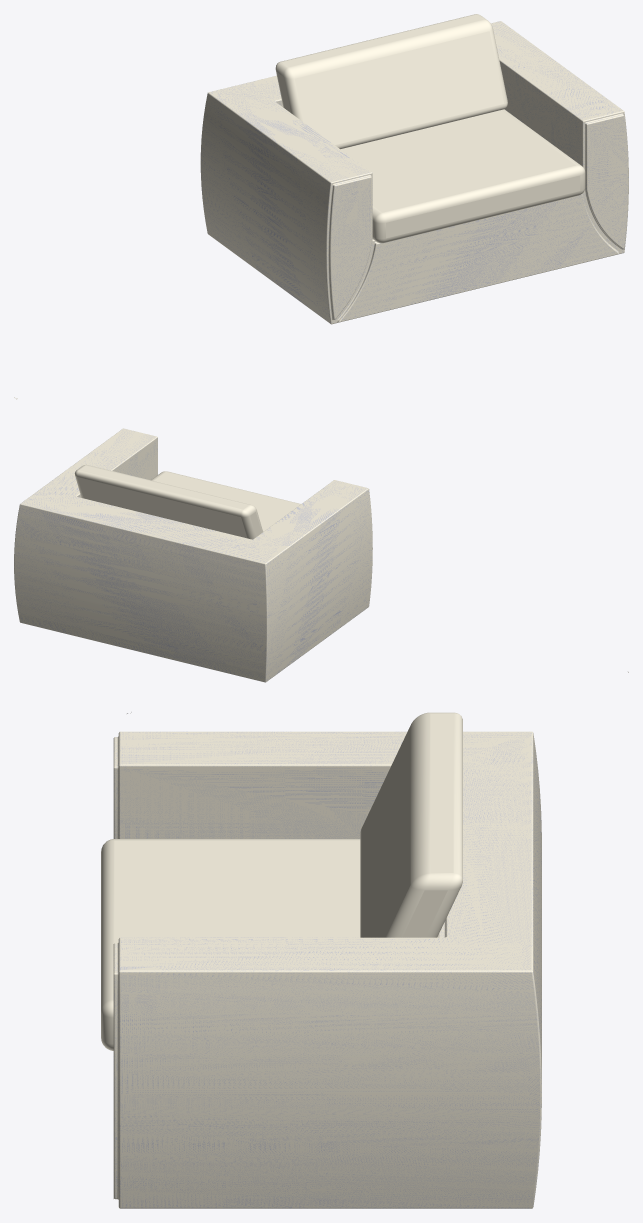
Rendered from chair_full.dae.
The picture shows the model from 3 angles, top to bottom: view 1: azimuth 30°, elevation 25°; view 2: azimuth 150°, elevation 25°; view 3: azimuth 270°, elevation 25°; orthographic projection. The views are drawn at different scales.
Visible parts, largest first — view 1: group_14, group_13, group_11, group_14_001, group_14_002, group_14_003; view 2: group_14, group_13, group_11; view 3: group_14, group_11, group_13, group_14_003.
Part boxes in pixels (left/top/right/bottom): group_14: left=200, top=21, right=628, bottom=324; group_13: left=275, top=14, right=507, bottom=149; group_11: left=341, top=109, right=585, bottom=243; group_14_001: left=337, top=194, right=618, bottom=321; group_14_002: left=328, top=174, right=371, bottom=320; group_14_003: left=584, top=113, right=628, bottom=249; group_14: left=14, top=428, right=372, bottom=682; group_13: left=74, top=464, right=262, bottom=539; group_11: left=151, top=471, right=300, bottom=531; group_14: left=118, top=731, right=541, bottom=1208; group_11: left=101, top=839, right=439, bottom=1050; group_13: left=360, top=712, right=462, bottom=937; group_14_003: left=113, top=943, right=118, bottom=1199.
Size of the model in its own units: 2.71 by 1.01 by 0.7789.
